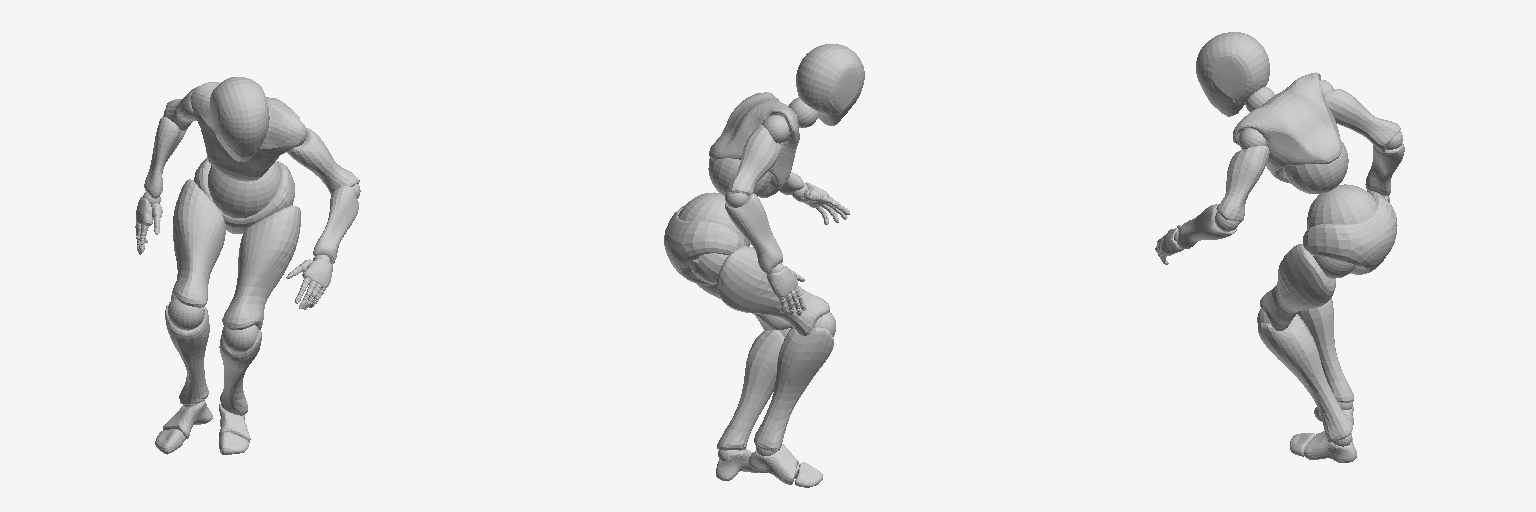
3 renders of one model, left to right at view 1: azimuth 30°, elevation 25°; view 2: azimuth 150°, elevation 25°; view 3: azimuth 270°, elevation 25°, orthographic.
Parts seen in each view (by area): view 1: Beta_Surface, Beta_Joints; view 2: Beta_Surface, Beta_Joints; view 3: Beta_Surface, Beta_Joints.
Boxes of the visible parts, x1=… form: Beta_Surface: x1=135, y1=77, x2=359, y2=454; Beta_Joints: x1=136, y1=111, x2=360, y2=441; Beta_Surface: x1=664, y1=44, x2=864, y2=487; Beta_Joints: x1=678, y1=97, x2=845, y2=478; Beta_Surface: x1=1155, y1=32, x2=1404, y2=462; Beta_Joints: x1=1156, y1=79, x2=1402, y2=446.
Size of the model in its own units: 0.5829 by 1.46 by 0.8154.